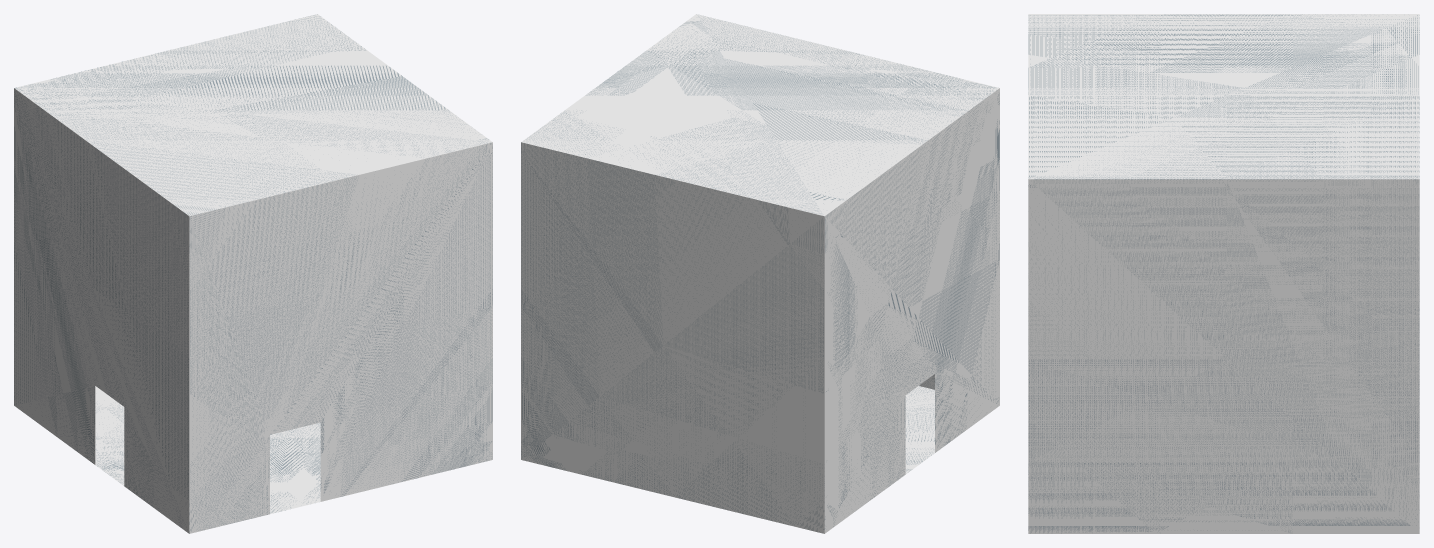
The model's file is sketchupLargeRoom_fbx_meters.fbx.
3 renders of one model, left to right at view 1: azimuth 30°, elevation 25°; view 2: azimuth 150°, elevation 25°; view 3: azimuth 270°, elevation 25°, orthographic. The views are drawn at different scales.
Visible parts, largest first — view 1: Model; view 2: Model; view 3: Model.
Boxes of the visible parts, x1,y1,x2,y2 form: Model: (14,14,492,533); Model: (521,14,999,533); Model: (1028,14,1419,533).
Size of the model in its own units: 12 by 12 by 12.
